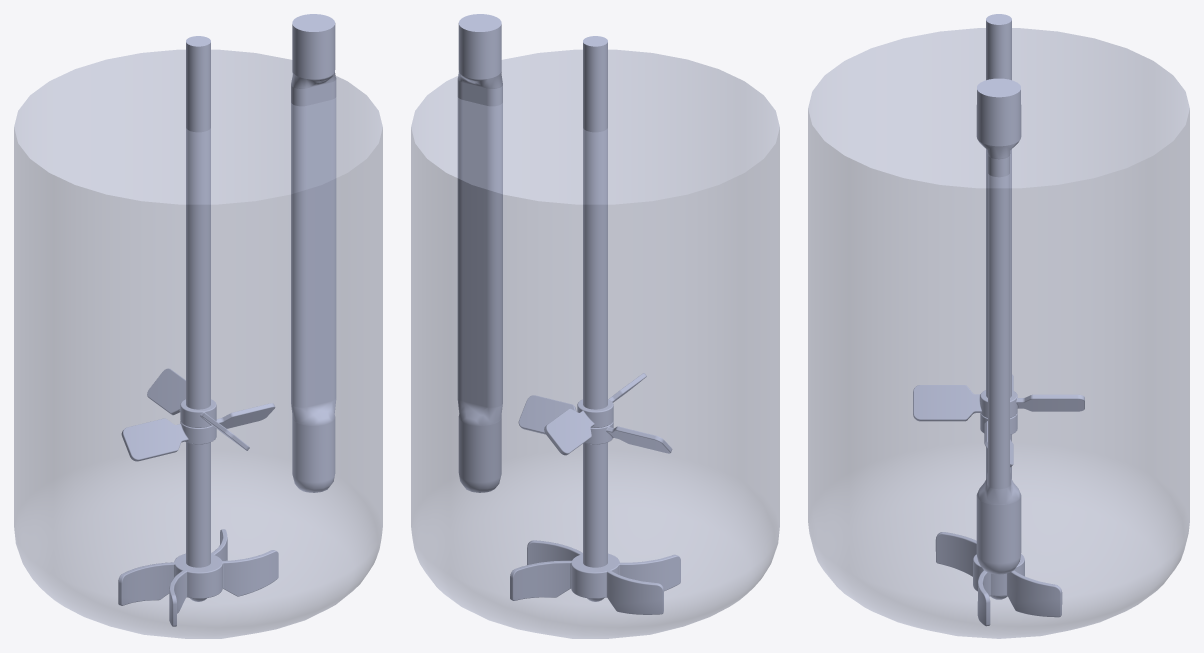
The picture shows the model from 3 angles, left to right: view 1: azimuth 30°, elevation 25°; view 2: azimuth 150°, elevation 25°; view 3: azimuth 270°, elevation 25°; orthographic projection. The views are drawn at different scales.
Visible parts, largest first — view 1: Tank, Impeller Assembly, Baffle; view 2: Tank, Impeller Assembly, Baffle; view 3: Tank, Baffle, Impeller Assembly.
Part boxes in pixels (left/top/right/bottom): Tank: left=14, top=49, right=382, bottom=638; Impeller Assembly: left=118, top=36, right=278, bottom=626; Baffle: left=291, top=14, right=336, bottom=492; Tank: left=411, top=49, right=779, bottom=638; Impeller Assembly: left=510, top=36, right=680, bottom=614; Baffle: left=457, top=14, right=502, bottom=492; Tank: left=808, top=28, right=1189, bottom=638; Baffle: left=976, top=78, right=1021, bottom=574; Impeller Assembly: left=913, top=14, right=1084, bottom=626.
Bounding box in the file's own units: 1.52 × 2.6 × 1.52.
